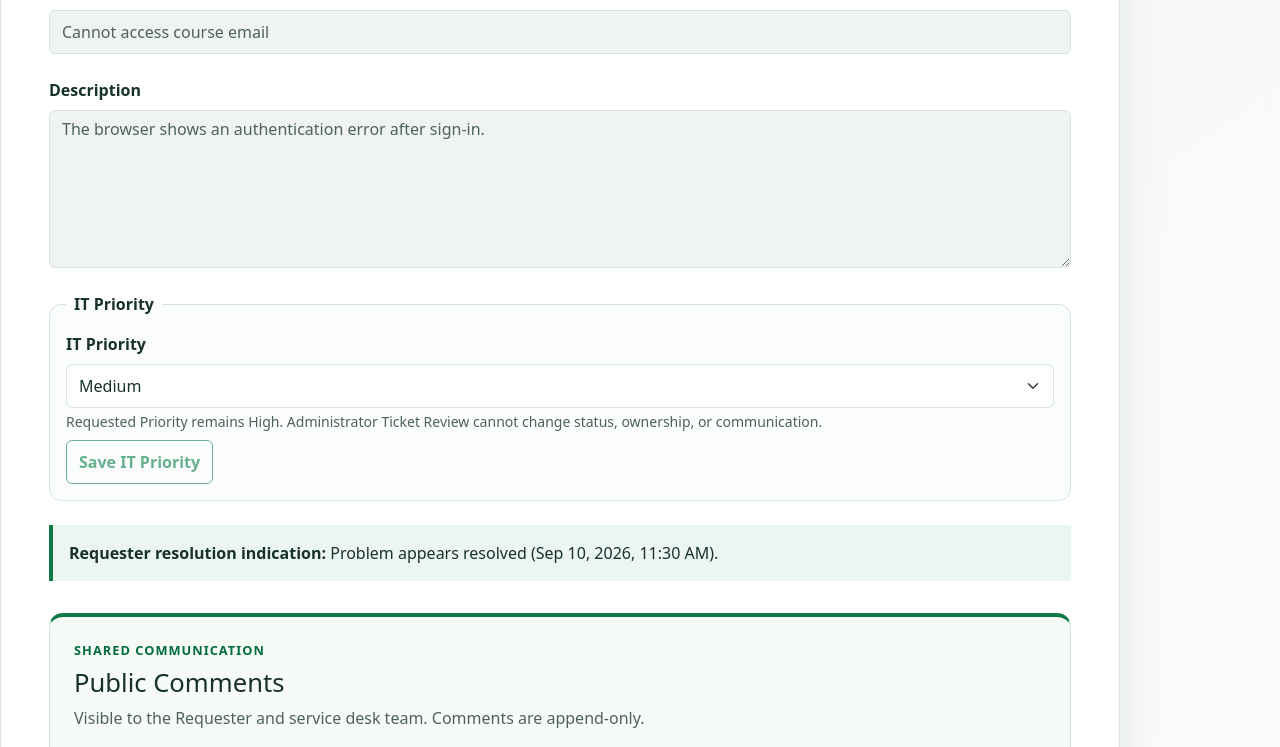
Scenario: Administrator Ticket Review › shows read-only Ticket facts and only permits IT Priority changes
(page scrolled)
Expected: the text "Problem appears resolved" is shown, [330,542,718,564]
Select "Low" in the dropdown labelled "IT Priority" at coordinates (560, 386), box [66,364,1054,408]
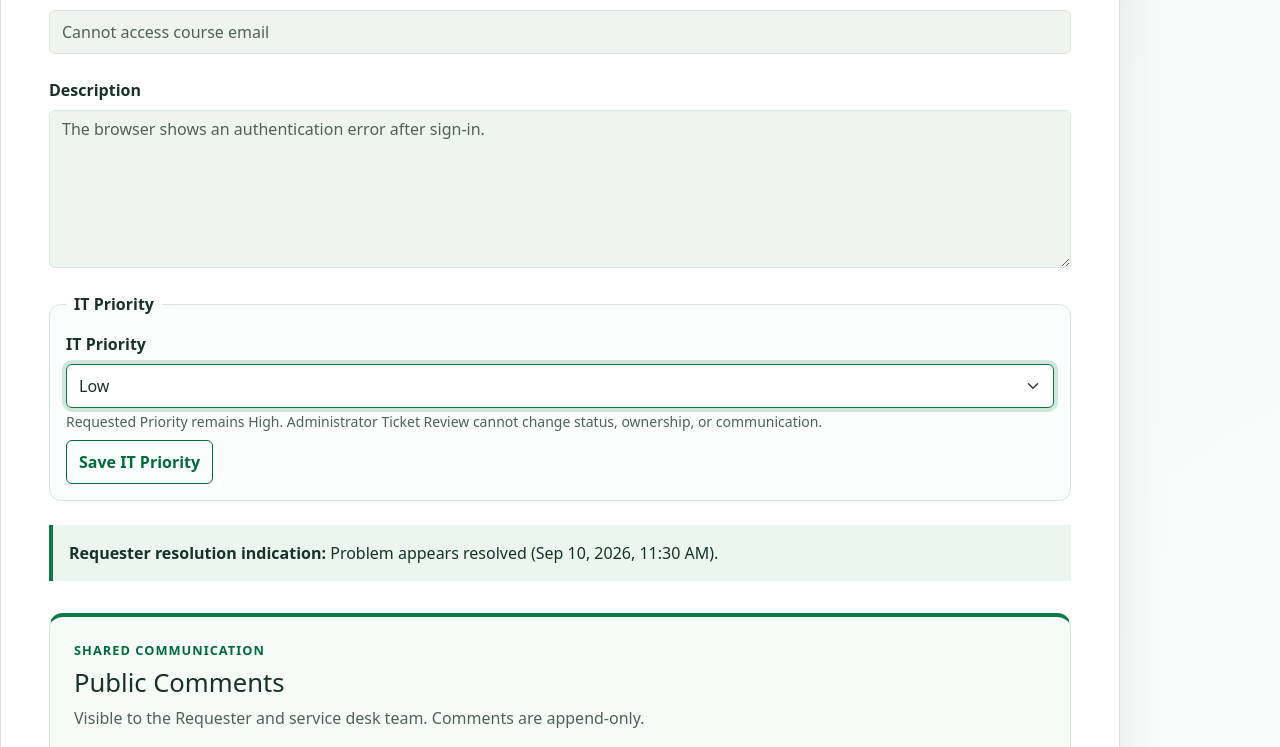
Click the button "Save IT Priority" at coordinates (140, 462), box [66,440,213,484]
(page scrolled)
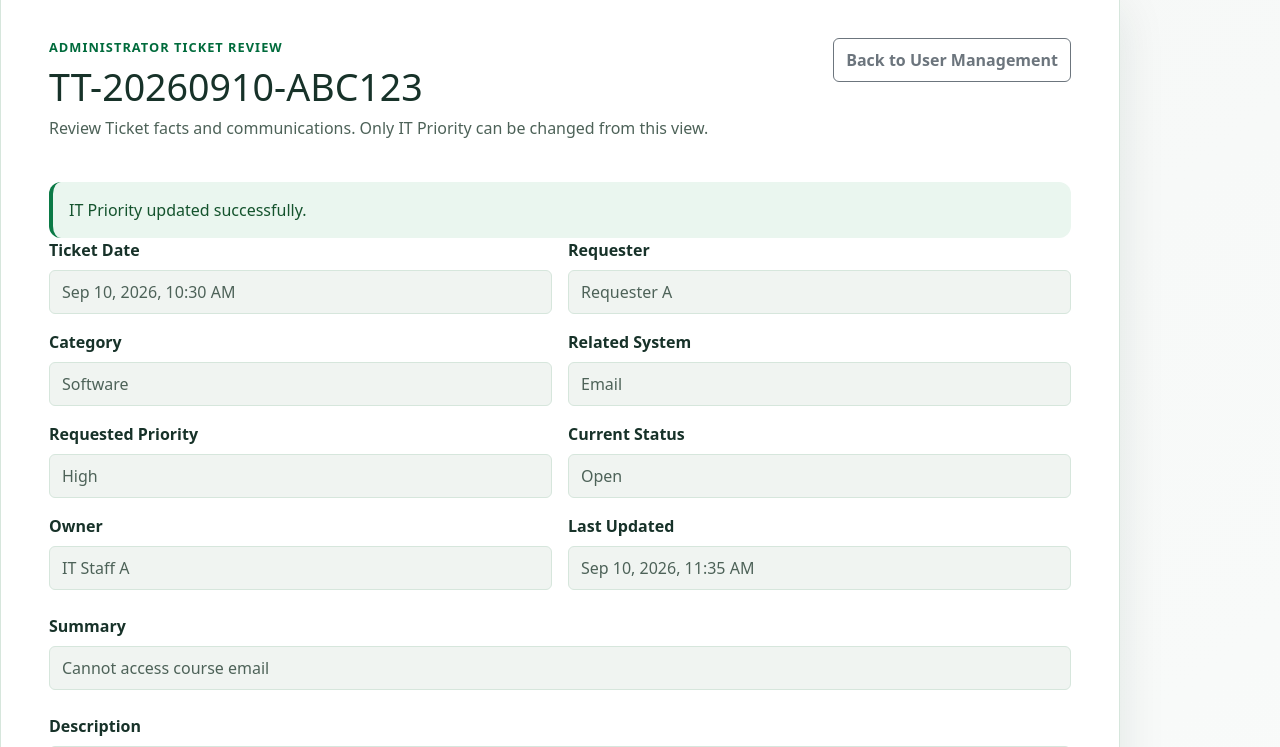
Expected: the text "IT Priority updated successfully." is shown, [49,182,1071,238]
